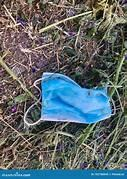Mask: (41, 73, 111, 123)
